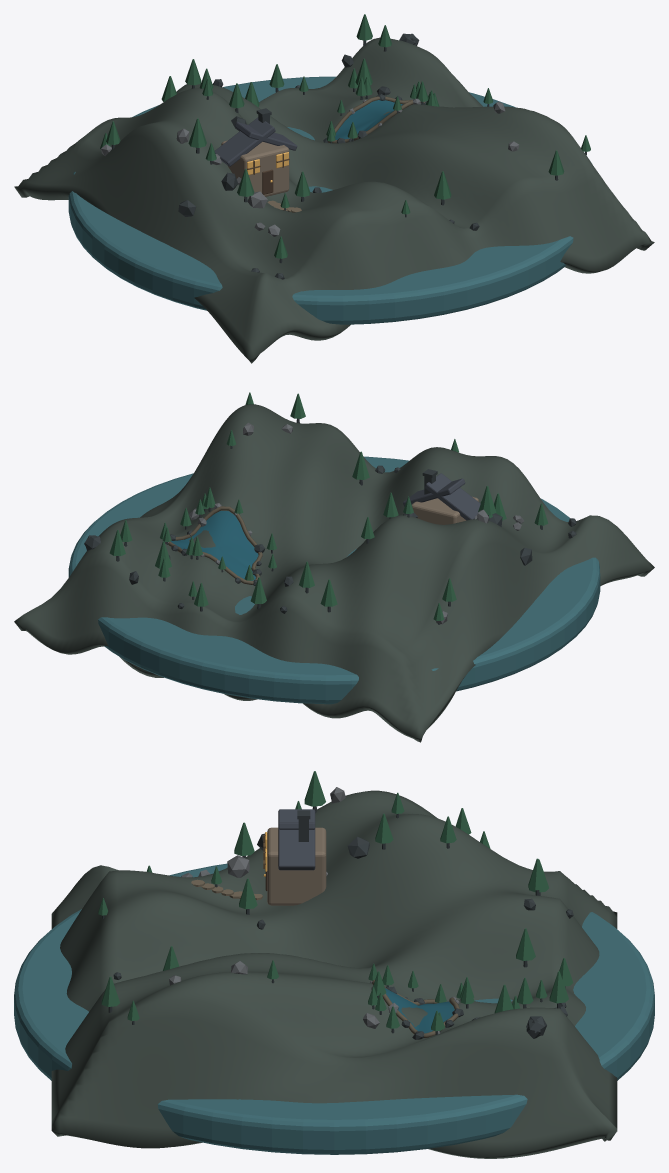
The picture shows the model from 3 angles, top to bottom: view 1: azimuth 30°, elevation 25°; view 2: azimuth 150°, elevation 25°; view 3: azimuth 270°, elevation 25°; orthographic projection. The views are drawn at different scales.
Parts seen in each view (by area): view 1: DRAVYA_Terrain, DRAVYA_Floating_Base, DRAVYA_Cute_House, House_Roof, Natural_Pond, Natural_Pond_Shore, House_Roof.001; view 2: DRAVYA_Terrain, DRAVYA_Floating_Base, Natural_Pond, House_Roof, DRAVYA_Cute_House, Natural_Pond_Shore, House_Roof.001; view 3: DRAVYA_Terrain, DRAVYA_Floating_Base, DRAVYA_Cute_House, House_Roof.001, Natural_Pond.
Boxes of the visible parts, x1,y1,x2,y2 form: DRAVYA_Terrain: (14,37,654,363); DRAVYA_Floating_Base: (68,76,591,324); DRAVYA_Cute_House: (221,140,289,196); House_Roof: (214,117,275,166); Natural_Pond: (335,100,403,139); Natural_Pond_Shore: (327,96,424,143); House_Roof.001: (235,122,297,150); DRAVYA_Terrain: (14,404,654,742); DRAVYA_Floating_Base: (68,456,600,704); Natural_Pond: (171,511,258,580); House_Roof: (424,473,480,520); DRAVYA_Cute_House: (412,496,478,524); Natural_Pond_Shore: (168,506,262,584); House_Roof.001: (403,478,465,506); DRAVYA_Terrain: (51,790,617,1158); DRAVYA_Floating_Base: (14,863,654,1154); DRAVYA_Cute_House: (267,827,326,905); House_Roof.001: (278,809,315,870); Natural_Pond: (385,988,454,1033).
Bounding box in the file's own units: 13.6 × 4.56 × 13.6.
